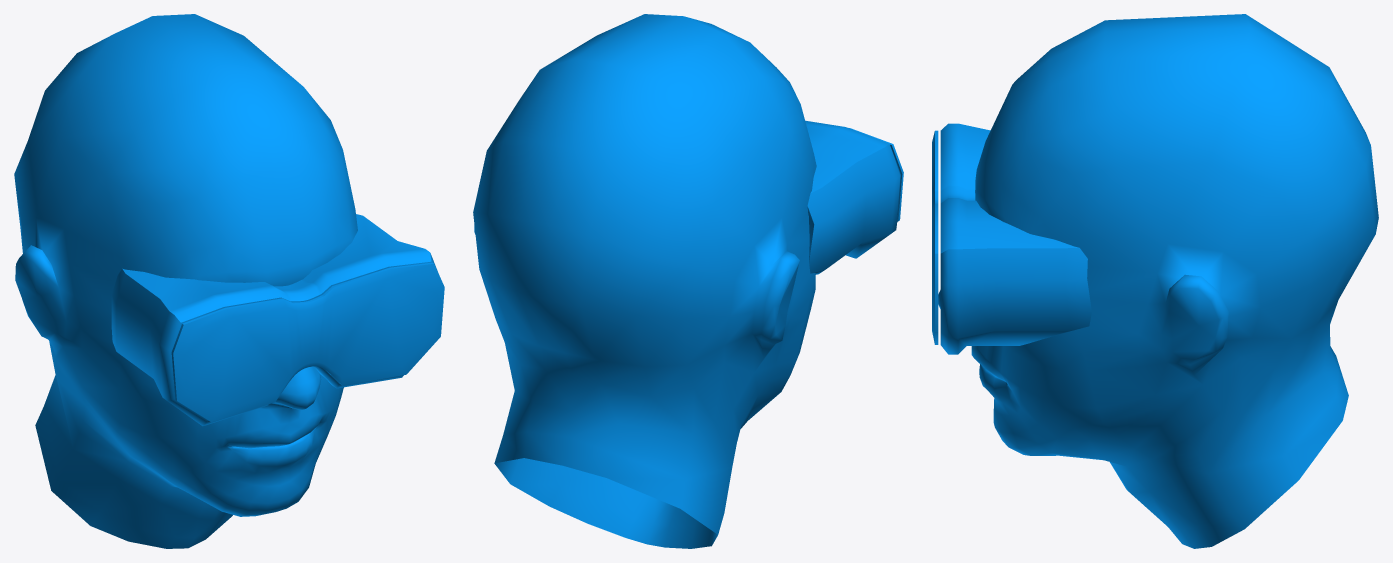
File: HMD.FBX
3 views of the same model, side by side, from view 1: azimuth 30°, elevation 25°; view 2: azimuth 150°, elevation 25°; view 3: azimuth 270°, elevation 25° (orthographic).
Visible parts, largest first — view 1: HMD; view 2: HMD; view 3: HMD.
Part boxes in pixels (box(x1,y1,x2,y2)): HMD: box(14, 14, 444, 548); HMD: box(473, 14, 903, 548); HMD: box(932, 14, 1378, 548).
Bounding box in the file's own units: 188 × 291 × 231.
